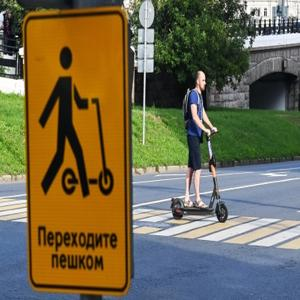human on a scooter: (170, 70, 229, 223)
